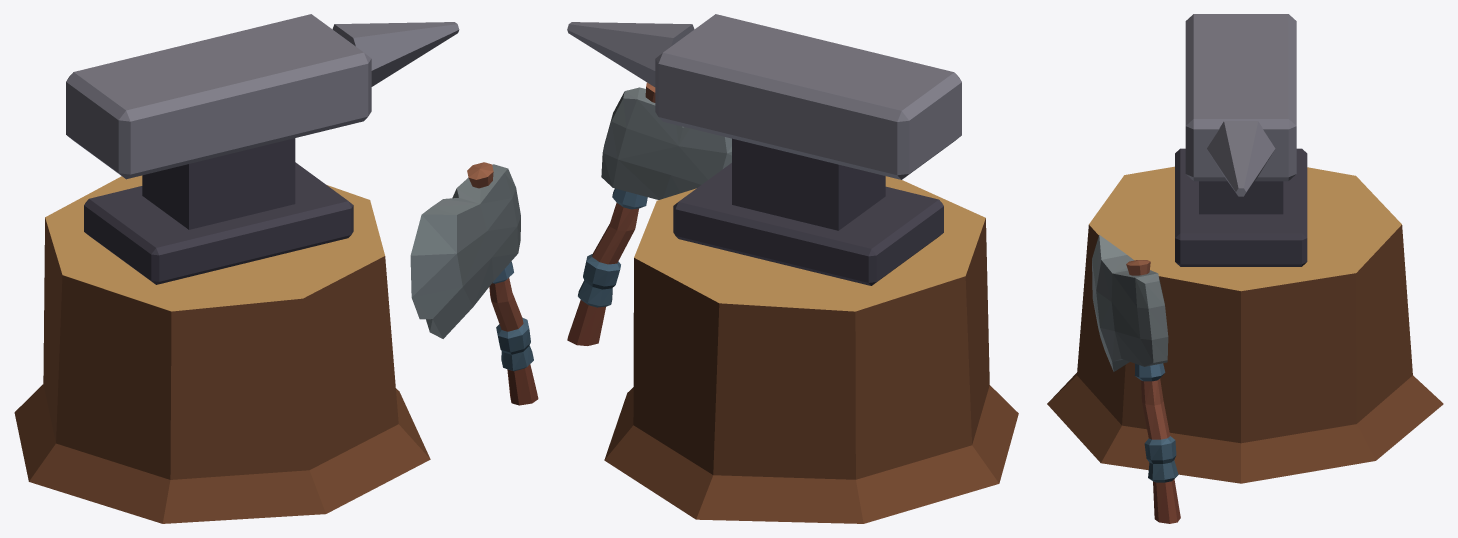
File: anvil__a.glb
3 views of the same model, side by side, from view 1: azimuth 30°, elevation 25°; view 2: azimuth 150°, elevation 25°; view 3: azimuth 270°, elevation 25° (orthographic). The views are drawn at different scales.
Parts seen in each view (by area): view 1: stump, anvil_body, axe_1handed, anvil_foot, anvil_waist, anvil_horn; view 2: stump, anvil_body, anvil_foot, axe_1handed, anvil_waist, anvil_horn; view 3: stump, anvil_body, axe_1handed, anvil_foot, anvil_horn, anvil_waist.
Boxes of the visible parts, x1=… form: stump: x1=14, y1=175, x2=430, y2=523; anvil_body: x1=66, y1=14, x2=371, y2=179; axe_1handed: x1=410, y1=162, x2=538, y2=405; anvil_foot: x1=84, y1=162, x2=353, y2=284; anvil_waist: x1=142, y1=138, x2=295, y2=229; anvil_horn: x1=332, y1=22, x2=459, y2=86; stump: x1=604, y1=176, x2=1018, y2=523; anvil_body: x1=655, y1=14, x2=961, y2=179; anvil_foot: x1=673, y1=163, x2=943, y2=285; axe_1handed: x1=567, y1=82, x2=731, y2=345; anvil_waist: x1=732, y1=138, x2=885, y2=230; anvil_horn: x1=567, y1=22, x2=694, y2=86; stump: x1=1047, y1=166, x2=1443, y2=483; anvil_body: x1=1185, y1=14, x2=1296, y2=181; axe_1handed: x1=1092, y1=235, x2=1180, y2=523; anvil_foot: x1=1175, y1=148, x2=1307, y2=266; anvil_horn: x1=1207, y1=121, x2=1275, y2=196; anvil_waist: x1=1199, y1=181, x2=1283, y2=214.
Size of the model in its own units: 0.8425 by 0.642 by 0.6832.
